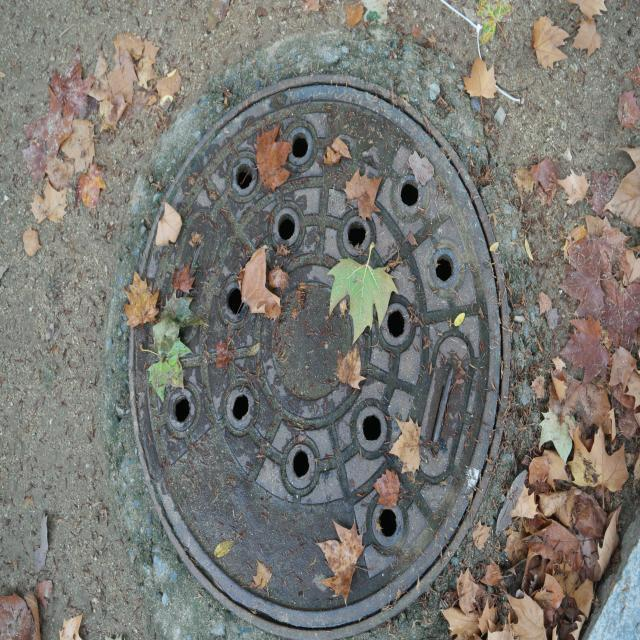manhole: (126, 75, 504, 640)
